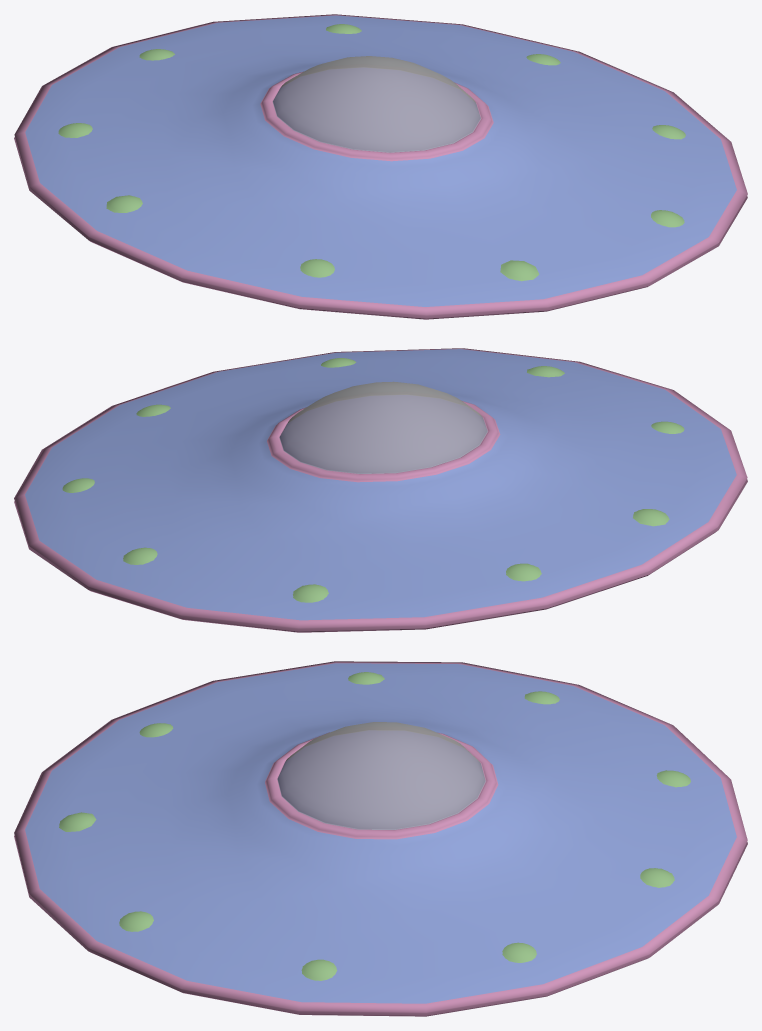
The model's file is flyingSaucer.fbx.
3 views of the same model, one above another, from view 1: azimuth 30°, elevation 25°; view 2: azimuth 150°, elevation 25°; view 3: azimuth 270°, elevation 25° (orthographic).
Parts seen in each view (by area): view 1: polySurface18; view 2: polySurface18; view 3: polySurface18.
Boxes of the visible parts, x1,y1,x2,y2 form: polySurface18: (14, 14, 747, 319); polySurface18: (14, 348, 747, 632); polySurface18: (14, 661, 747, 1016).
Size of the model in its own units: 27.95 by 7.34 by 28.19.
